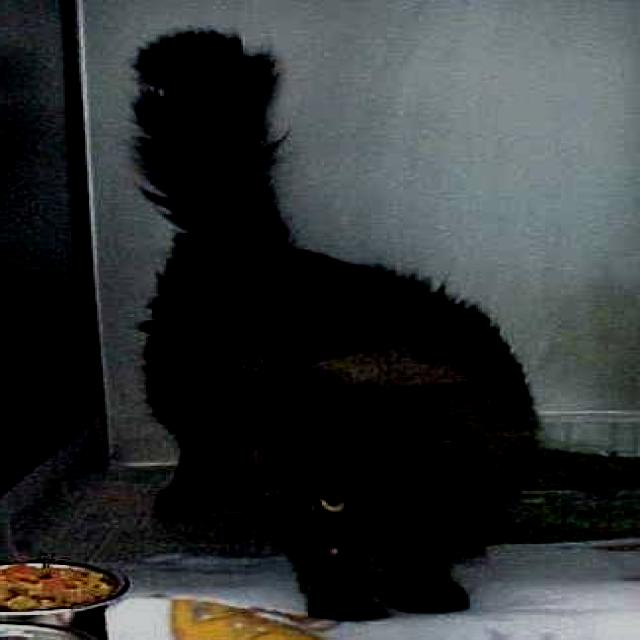Kucing: (68, 44, 599, 605)
